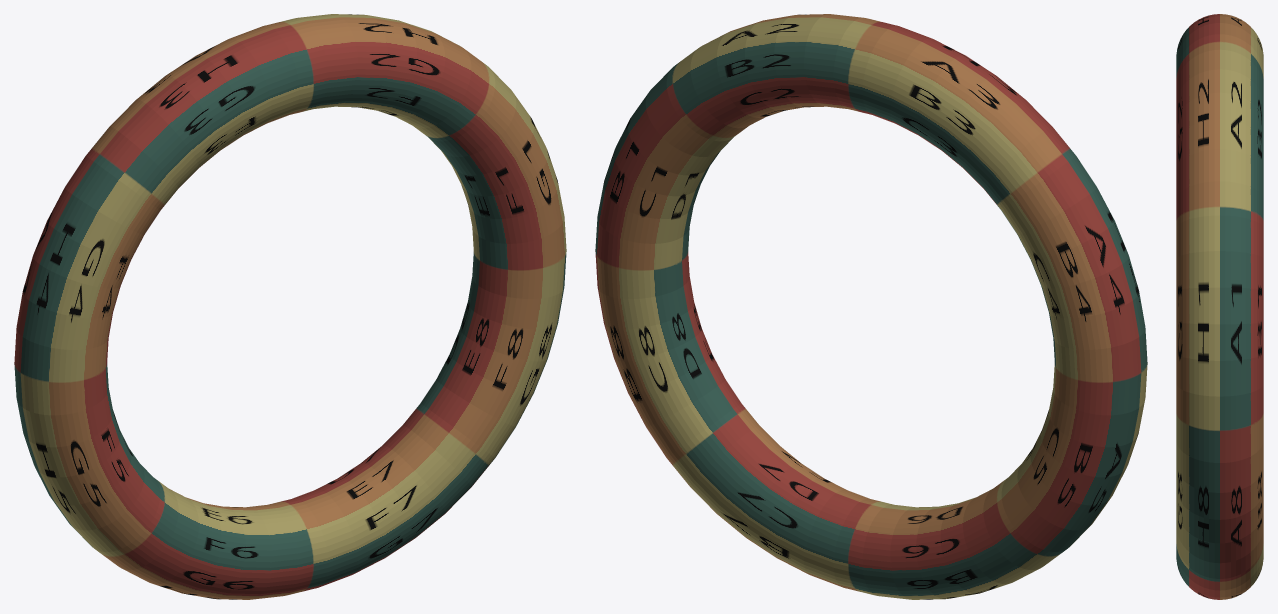
The model's file is texture_torus_R25_r10.glb.
3 renders of one model, left to right at view 1: azimuth 30°, elevation 25°; view 2: azimuth 150°, elevation 25°; view 3: azimuth 270°, elevation 25°, orthographic. The views are drawn at different scales.
Parts seen in each view (by area): view 1: world; view 2: world; view 3: world.
Boxes of the visible parts, bbox=[...] form: world: bbox=[14, 14, 566, 599]; world: bbox=[595, 14, 1147, 599]; world: bbox=[1176, 14, 1263, 599].
Size of the model in its own units: 31.33 by 31.27 by 4.66.
Materials: 1 (1 with a texture image).
